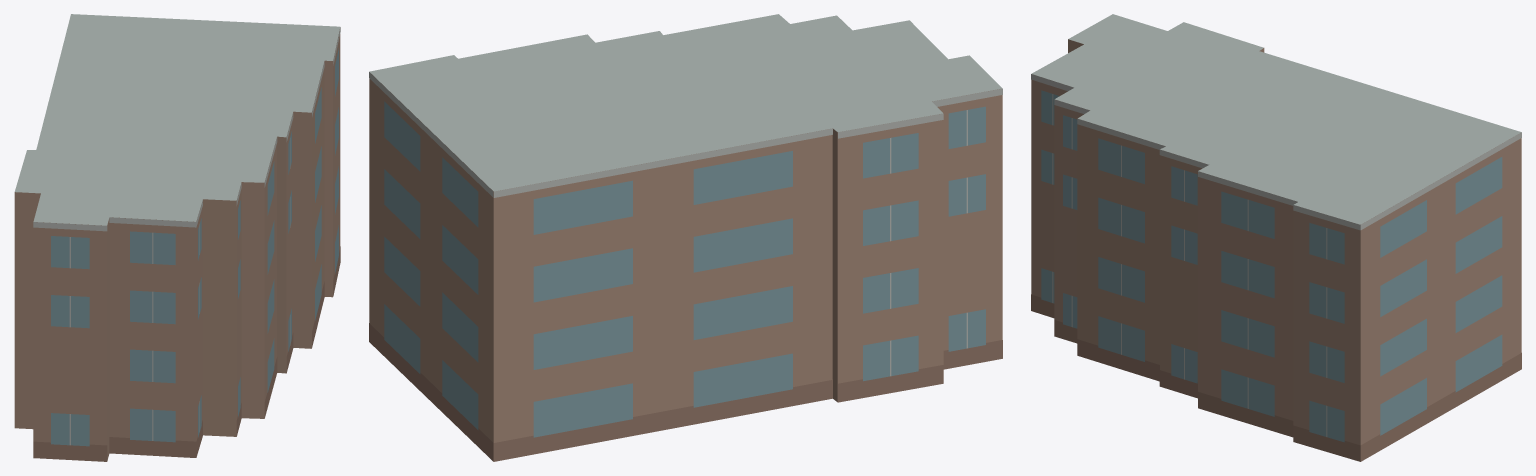
Rendered from survey-upis-33004868.glb.
The picture shows the model from 3 angles, left to right: view 1: azimuth 30°, elevation 25°; view 2: azimuth 150°, elevation 25°; view 3: azimuth 270°, elevation 25°; orthographic projection. The views are drawn at different scales.
Visible parts, largest first — view 1: survey-upis-33004868.tmp; view 2: survey-upis-33004868.tmp; view 3: survey-upis-33004868.tmp.
Part boxes in pixels (x1,y1,x2,y2): survey-upis-33004868.tmp: (14, 14, 340, 461); survey-upis-33004868.tmp: (369, 14, 1002, 461); survey-upis-33004868.tmp: (1031, 14, 1521, 461).
Bounding box in the file's own units: 19.46 × 10.2 × 19.14.
